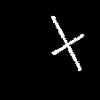single_crochet: (51, 16, 83, 70)
